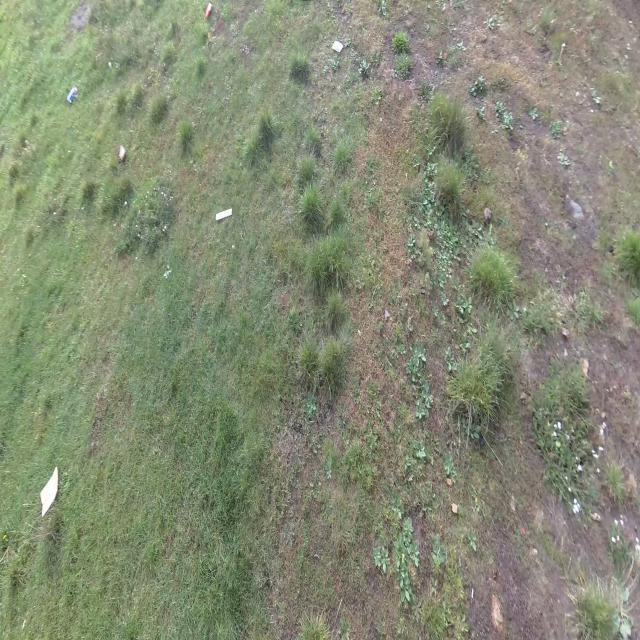rubbish: (39, 466, 59, 520), (215, 207, 233, 221), (66, 85, 78, 105), (331, 39, 344, 53), (118, 144, 127, 162), (205, 2, 213, 20)
